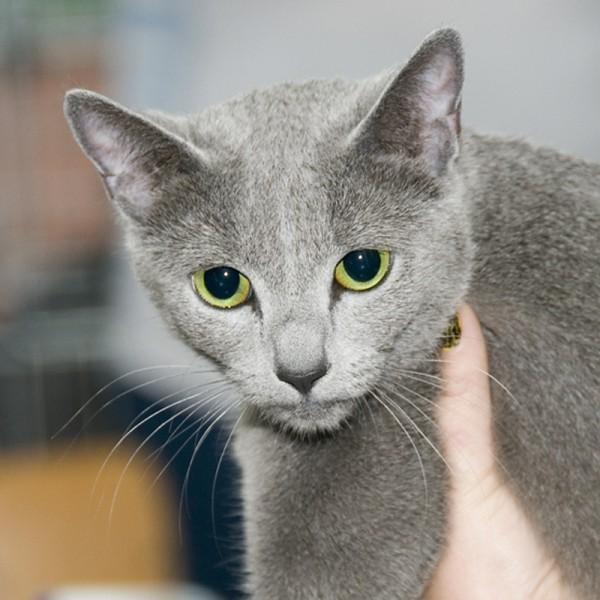rblue: (64, 30, 496, 451)
